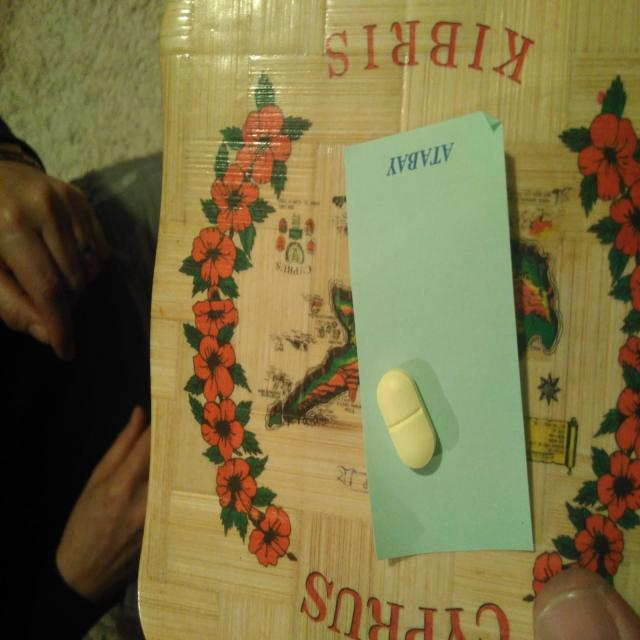pills: (366, 362, 449, 482)
